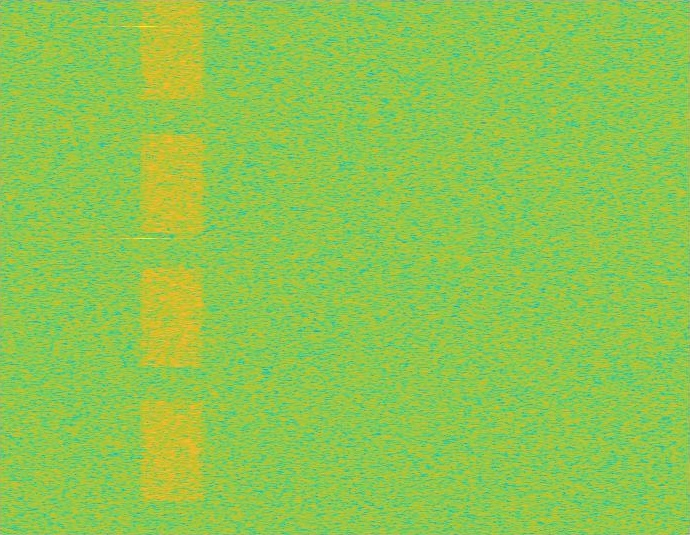5G: (138, 0, 207, 534)
Radar: (139, 0, 152, 534)
